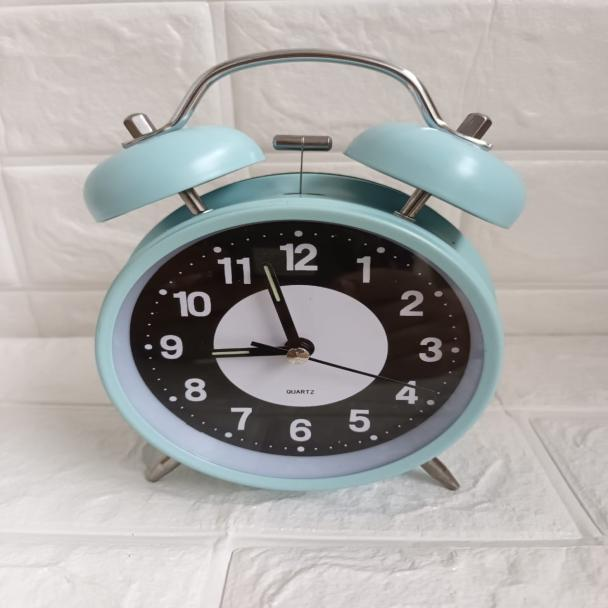Jam: (99, 203, 498, 492)
